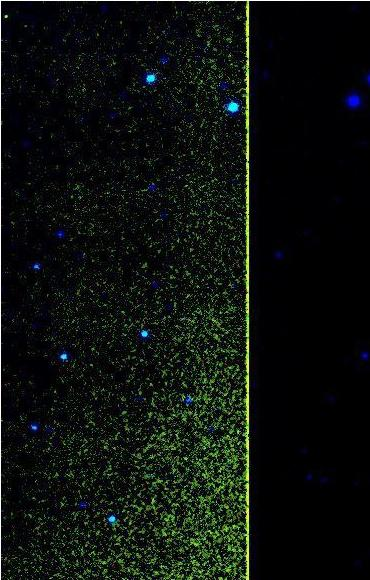star: (0, 1, 21, 31)
